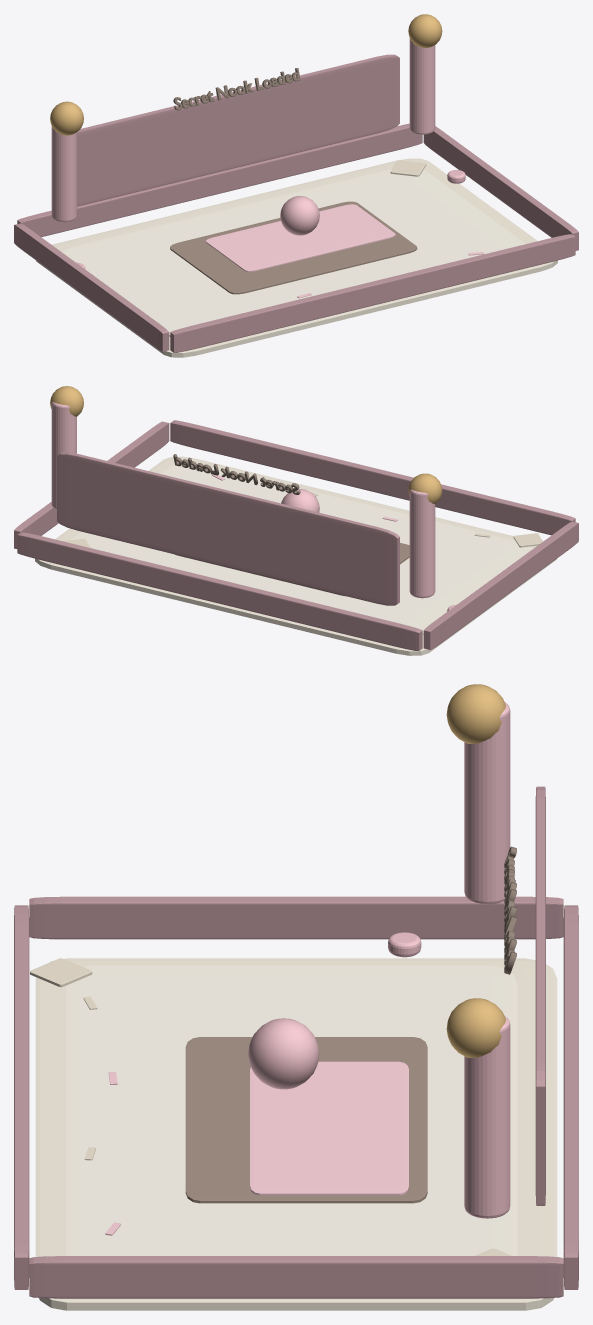
Rendered from 11_sub_scenes_nook.glb.
The picture shows the model from 3 angles, top to bottom: view 1: azimuth 30°, elevation 25°; view 2: azimuth 150°, elevation 25°; view 3: azimuth 270°, elevation 25°; orthographic projection. The views are drawn at different scales.
Visible parts, largest first — view 1: FloorLayerInset, BackCard, SouthRail-col, NorthRail-col, PaperFloor-col, StageMatHighlight, StageMat, WestRail-col, EastRail-col, PaperLantern.001, PaperLantern, NookGem (+4 smaller); view 2: BackCard, FloorLayerInset, NorthRail-col, SouthRail-col, PaperFloor-col, WestRail-col, PaperLantern, EastRail-col, PaperLantern.001, TitleLabel, LanternGlow.001, LanternGlow (+2 smaller); view 3: FloorLayerInset, PaperFloor-col, EastRail-col, WestRail-col, StageMatHighlight, StageMat, PaperLantern.001, PaperLantern, NorthRail-col, SouthRail-col, BackCard, NookGem (+4 smaller).
Boxes of the visible parts, x1,y1,x2,y2 form: FloorLayerInset: [62, 168, 525, 336]; BackCard: [77, 54, 399, 206]; SouthRail-col: [170, 234, 575, 352]; NorthRail-col: [17, 123, 422, 236]; PaperFloor-col: [36, 158, 557, 357]; StageMatHighlight: [206, 204, 395, 271]; StageMat: [170, 201, 417, 294]; WestRail-col: [14, 223, 169, 351]; EastRail-col: [423, 126, 578, 250]; PaperLantern.001: [409, 38, 435, 134]; PaperLantern: [51, 126, 76, 222]; NookGem: [280, 196, 319, 235]; BackCard: [57, 452, 399, 605]; FloorLayerInset: [70, 463, 533, 634]; NorthRail-col: [17, 532, 422, 650]; SouthRail-col: [170, 420, 575, 535]; PaperFloor-col: [35, 456, 556, 655]; WestRail-col: [423, 521, 578, 649]; PaperLantern: [409, 489, 435, 598]; EastRail-col: [14, 421, 169, 548]; PaperLantern.001: [51, 402, 76, 509]; TitleLabel: [173, 454, 300, 494]; LanternGlow.001: [50, 386, 83, 416]; LanternGlow: [408, 473, 442, 503]; FloorLayerInset: [65, 965, 517, 1255]; PaperFloor-col: [35, 958, 557, 1310]; EastRail-col: [29, 1256, 563, 1298]; WestRail-col: [29, 896, 563, 939]; StageMatHighlight: [250, 1061, 408, 1195]; StageMat: [185, 1037, 427, 1203]; PaperLantern.001: [464, 1016, 510, 1218]; PaperLantern: [464, 702, 510, 904]; NorthRail-col: [563, 905, 578, 1289]; SouthRail-col: [14, 905, 29, 1289]; BackCard: [535, 786, 545, 1205]; NookGem: [248, 1018, 319, 1089].
Size of the model in its own units: 6.8 by 2.56 by 4.44.
